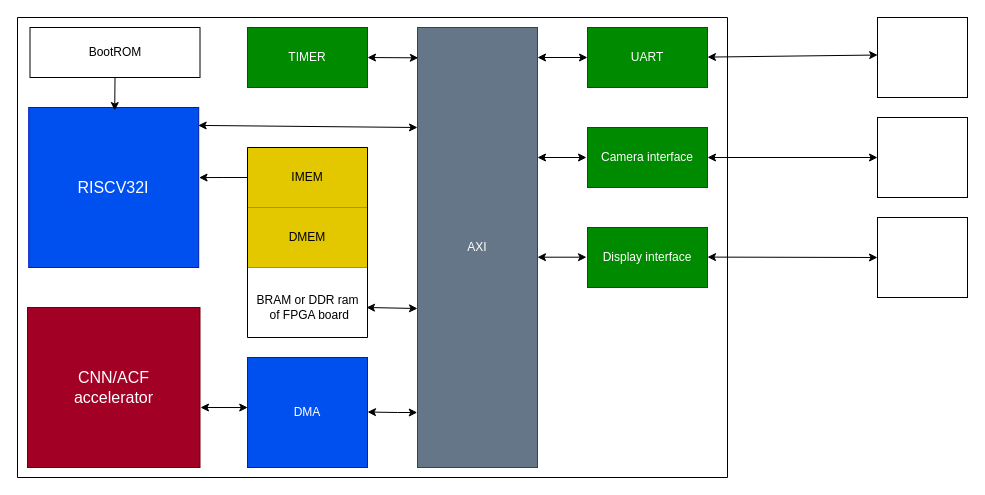
Some shapes in this 985 by 495 pixel diagram are drawn without their labels. Each missing label, with the box of its shape:
Camera: (876, 116, 968, 198)
Display: (876, 216, 968, 298)
FLASH (proogram): (876, 16, 968, 98)
